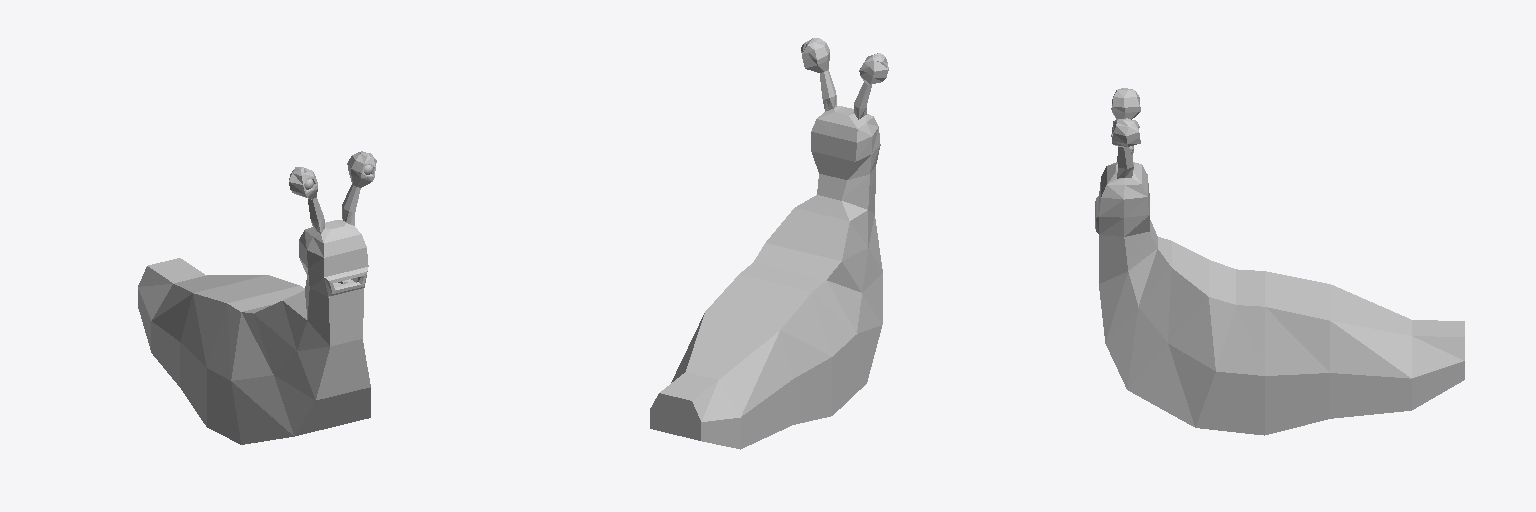
Rendered from slime.obj.
3 renders of one model, left to right at view 1: azimuth 30°, elevation 25°; view 2: azimuth 150°, elevation 25°; view 3: azimuth 270°, elevation 25°, orthographic.
Parts seen in each view (by area): view 1: objCube; view 2: objCube; view 3: objCube.
Boxes of the visible parts, <box> form: objCube: <box>138,151,376,444</box>; objCube: <box>650,38,888,449</box>; objCube: <box>1095,88,1464,435</box>.
Size of the model in its own units: 1 by 2.55 by 2.82.